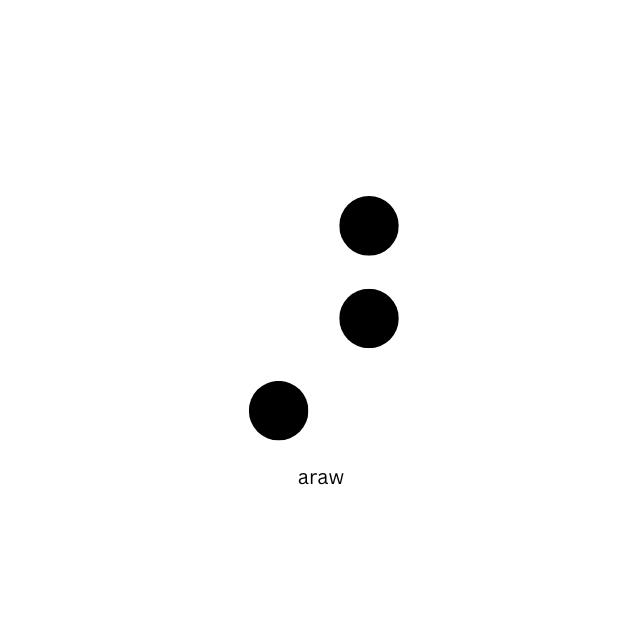one_cell_non_alphabet_araw: (247, 193, 402, 445)
